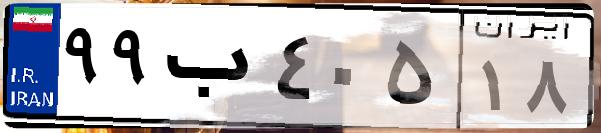0: (330, 28, 385, 110)
1: (475, 38, 525, 113)
4: (270, 28, 330, 110)
5: (385, 28, 445, 110)
8: (525, 38, 570, 115)
9: (57, 26, 110, 100), (110, 28, 158, 98)
ب: (158, 20, 270, 120)
